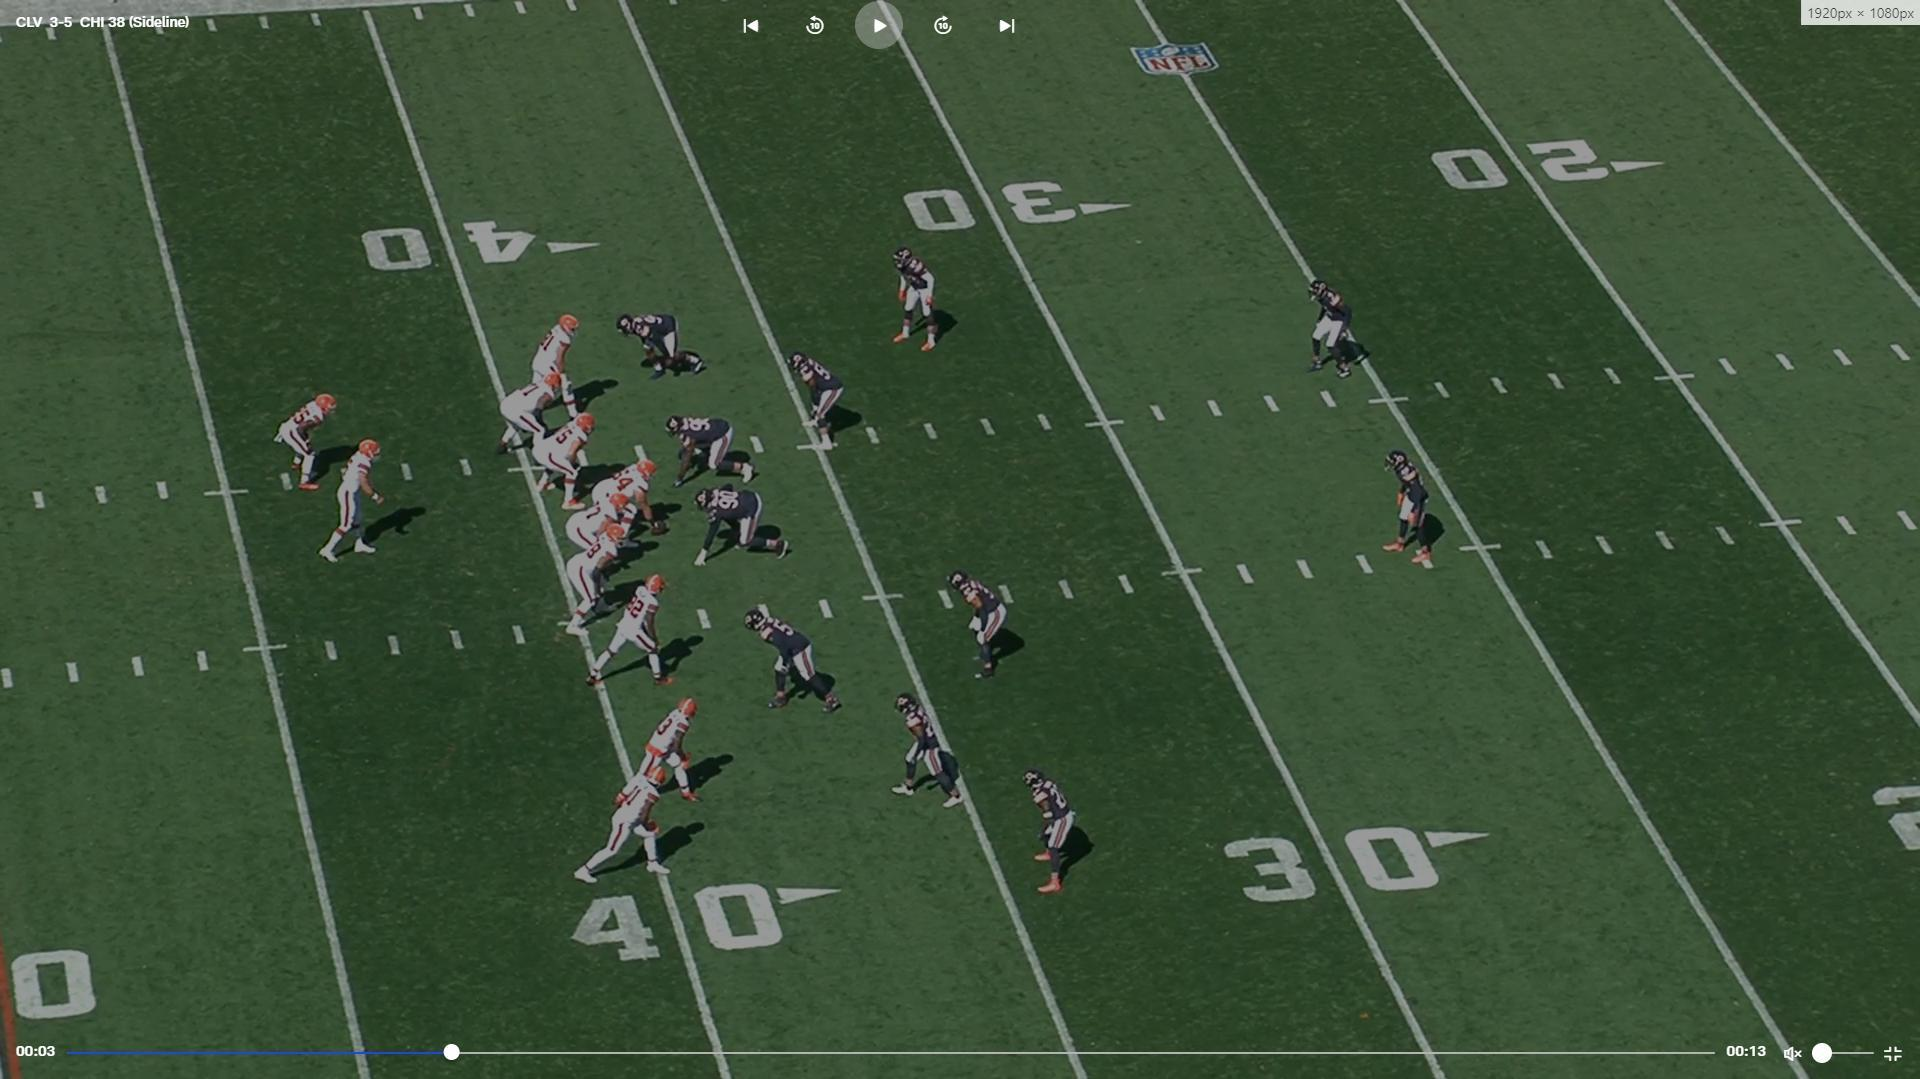player: (571, 754, 676, 889), (585, 572, 678, 694), (751, 605, 848, 717), (885, 690, 966, 810), (620, 698, 703, 807), (686, 482, 790, 564), (946, 565, 1019, 681), (327, 438, 391, 568), (1376, 442, 1440, 569), (1021, 763, 1081, 898), (558, 523, 626, 640), (666, 415, 759, 493), (616, 307, 708, 383), (1309, 274, 1374, 381), (887, 242, 948, 356), (791, 349, 853, 456), (278, 393, 341, 498), (589, 457, 667, 539), (528, 309, 587, 416), (499, 374, 568, 464), (532, 413, 595, 511), (563, 498, 631, 559)
